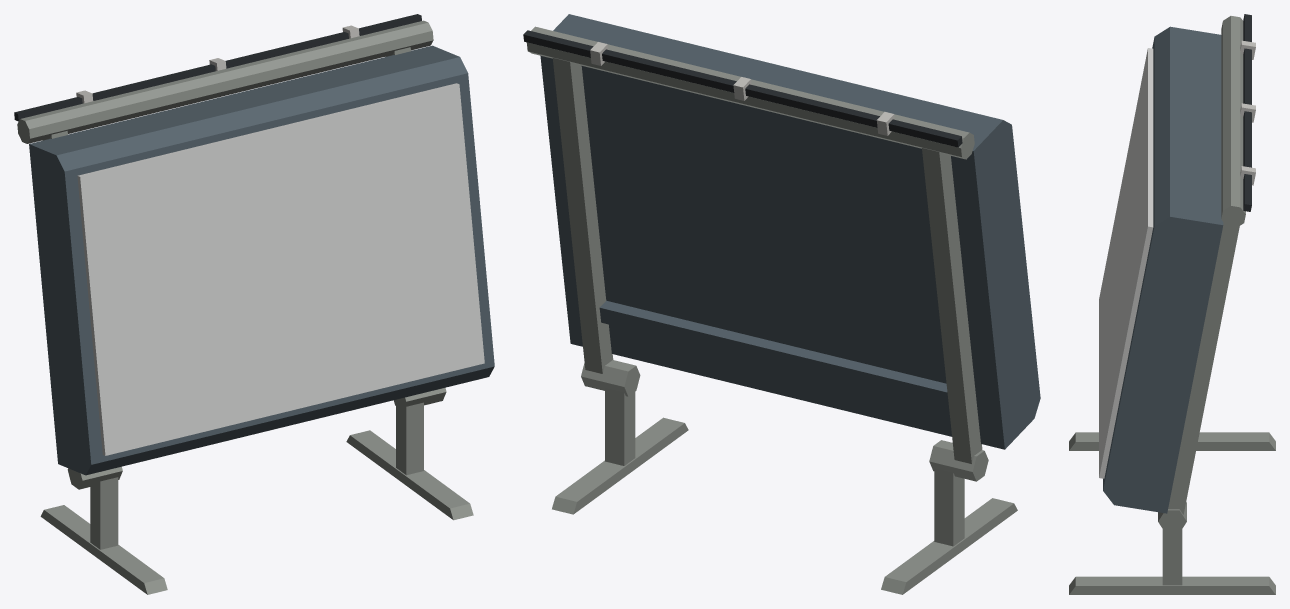
The model's file is advertising-hoarding-run-efe4bc.glb.
The picture shows the model from 3 angles, left to right: view 1: azimuth 30°, elevation 25°; view 2: azimuth 150°, elevation 25°; view 3: azimuth 270°, elevation 25°; orthographic projection. The views are drawn at different scales.
Parts seen in each view (by area): view 1: board-mesh, hoarding; view 2: board-mesh, hoarding; view 3: board-mesh, hoarding.
Boxes of the visible parts, x1,y1,x2,y2 form: board-mesh: (14, 14, 494, 475); hoarding: (40, 387, 473, 594); board-mesh: (523, 14, 1040, 463); hoarding: (552, 360, 1017, 594); board-mesh: (1099, 14, 1255, 514); hoarding: (1069, 432, 1275, 594).
Bounding box in the file's own units: 1 × 1.01 × 0.46.
